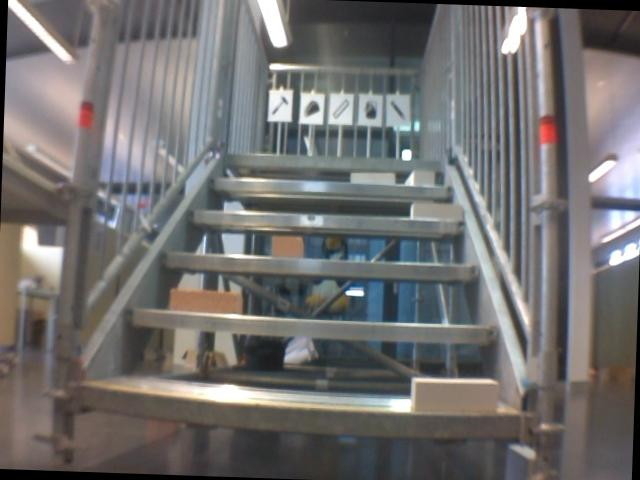brick: (411, 378, 497, 416), (169, 288, 239, 315), (410, 203, 462, 220), (272, 235, 302, 257), (350, 171, 393, 183), (407, 170, 433, 184)
bucket: (363, 97, 380, 122)
edge: (76, 385, 524, 437), (125, 307, 503, 344), (158, 251, 479, 279), (186, 210, 466, 232), (209, 177, 450, 198), (223, 152, 440, 171)
hammer: (267, 94, 290, 119)
pencil: (388, 99, 406, 120)
ruler: (330, 95, 350, 119)
steps: (70, 143, 538, 445)
taco: (301, 98, 320, 119)
